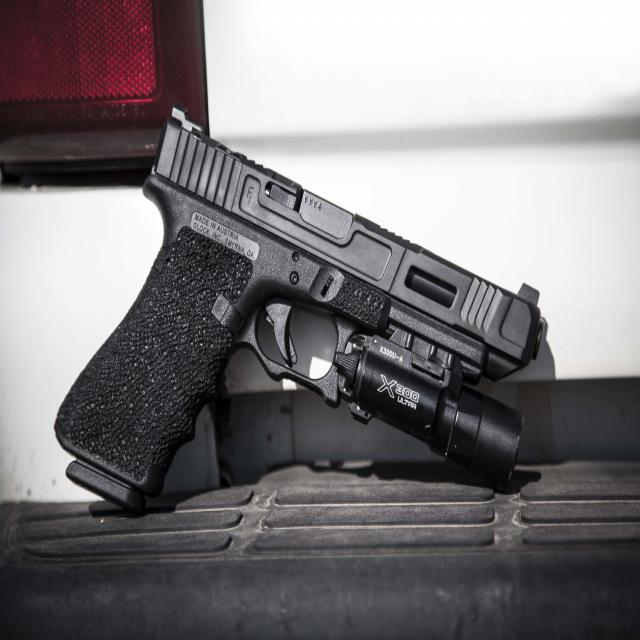handgun: (52, 92, 548, 516)
